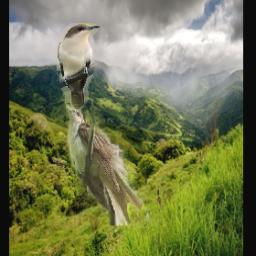Cuckoo: (67, 104, 150, 226), (58, 23, 101, 110)
